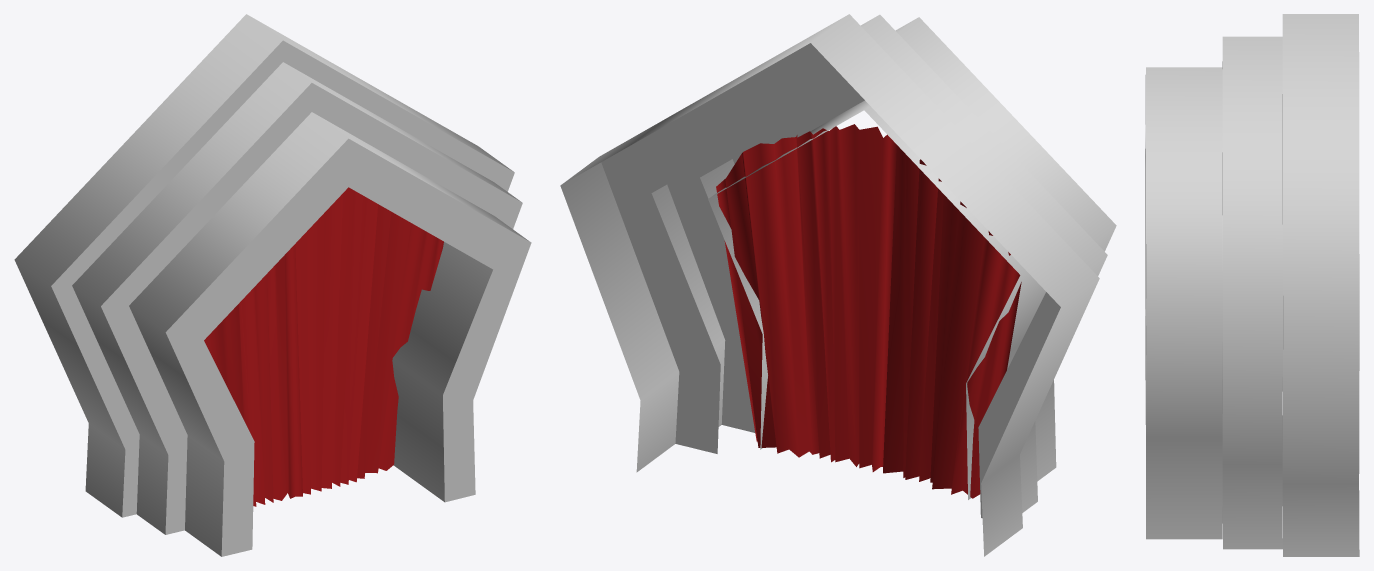
Rendered from PortaCirco.glb.
3 renders of one model, left to right at view 1: azimuth 30°, elevation 25°; view 2: azimuth 150°, elevation 25°; view 3: azimuth 270°, elevation 25°, orthographic. The views are drawn at different scales.
Parts seen in each view (by area): view 1: Plane.018, Plane.036; view 2: Plane.018, Plane.036; view 3: Plane.018.
Boxes of the visible parts, x1=… form: Plane.018: x1=14, y1=14, x2=531, y2=556; Plane.036: x1=204, y1=187, x2=443, y2=506; Plane.018: x1=560, y1=14, x2=1116, y2=556; Plane.036: x1=716, y1=124, x2=1021, y2=498; Plane.018: x1=1145, y1=14, x2=1359, y2=556.
Bounding box in the file's own units: 19.42 × 17.51 × 7.38.
